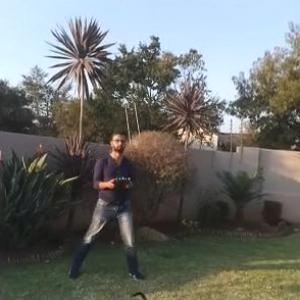follow: (64, 125, 148, 280)
